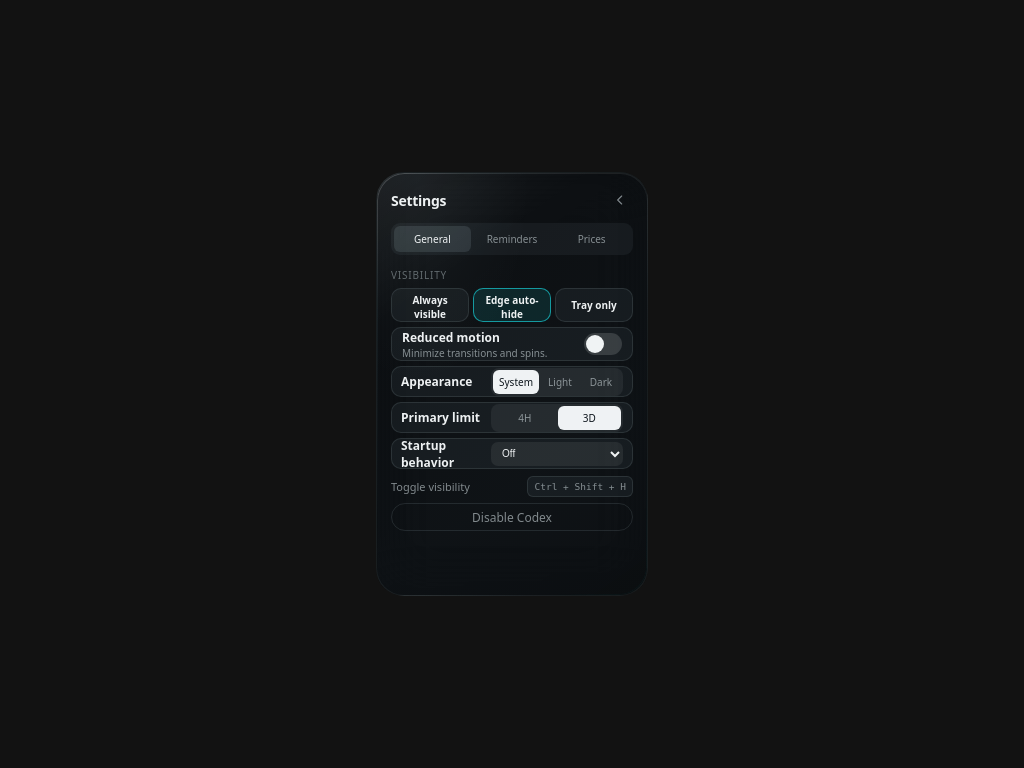
Test: SettingsSheet › keeps price-sync feedback when switching settings pages
The width and height of the screenshot is (1024, 768).
What coordinates should you click on to do the following:
click the button "Prices"
I would click on:
 (592, 239)
Its box is [553,226,630,252].
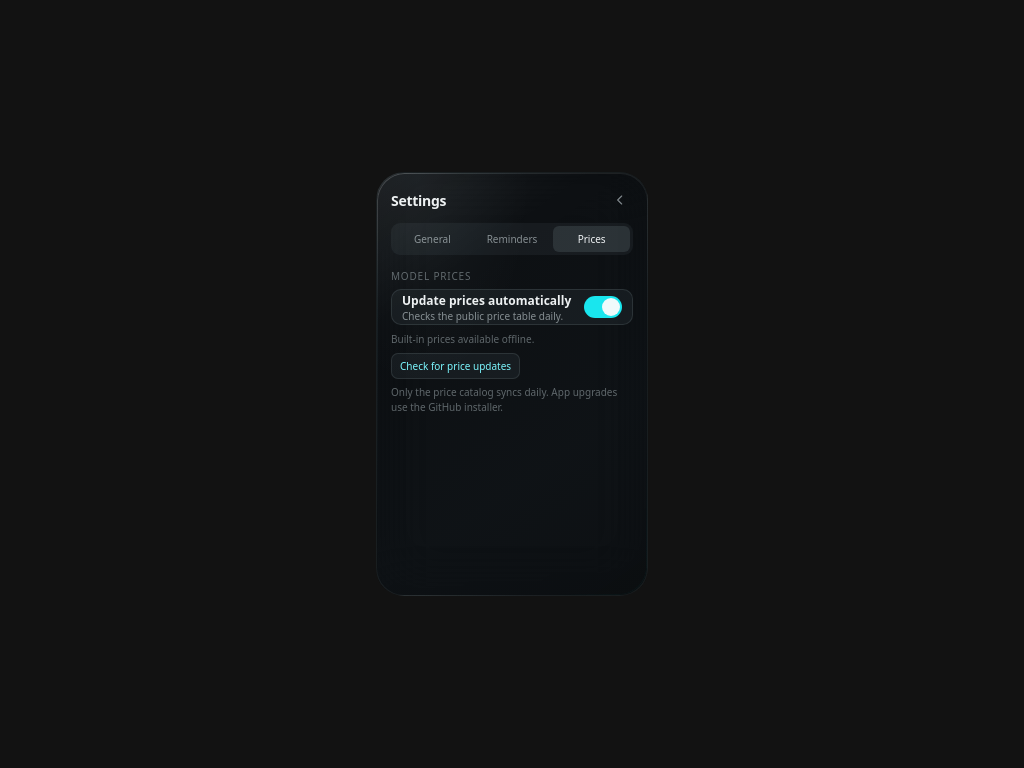
What coordinates should you click on to do the following:
click the button "Check for price updates"
I would click on:
 (456, 366)
Its box is [391,353,520,379].
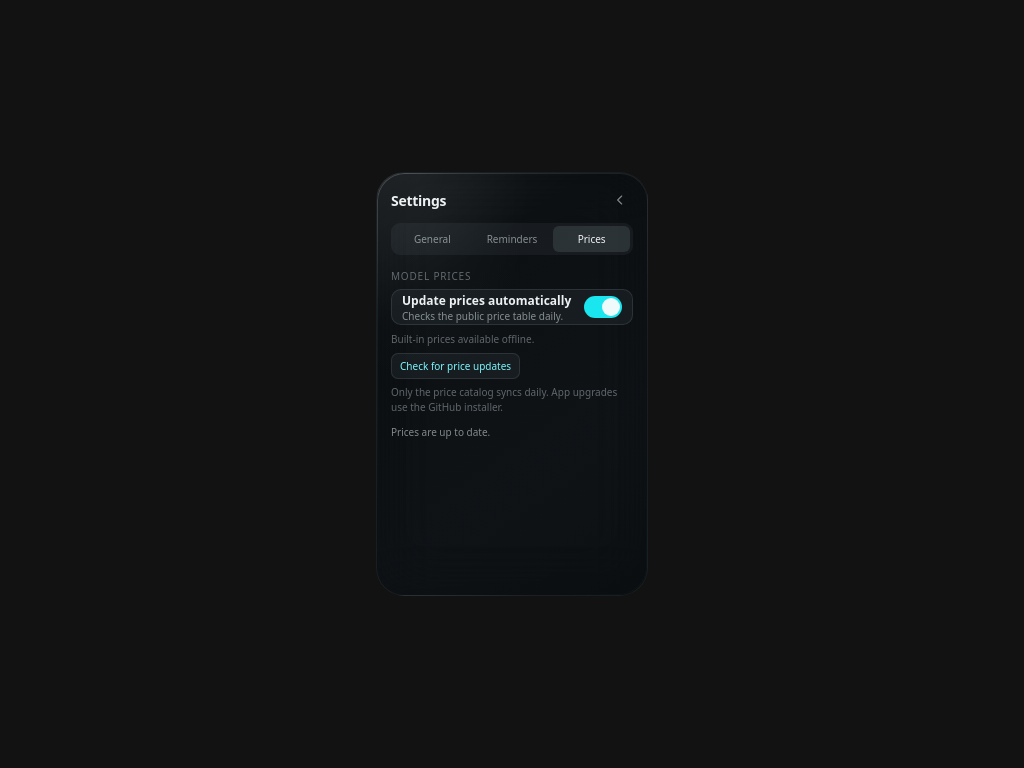
Now the message reads "Prices are up to date.", box [391,425,490,439]
What coordinates should you click on to do the following:
click the button "General"
I would click on:
 (432, 239)
Its box is [394,226,471,252].
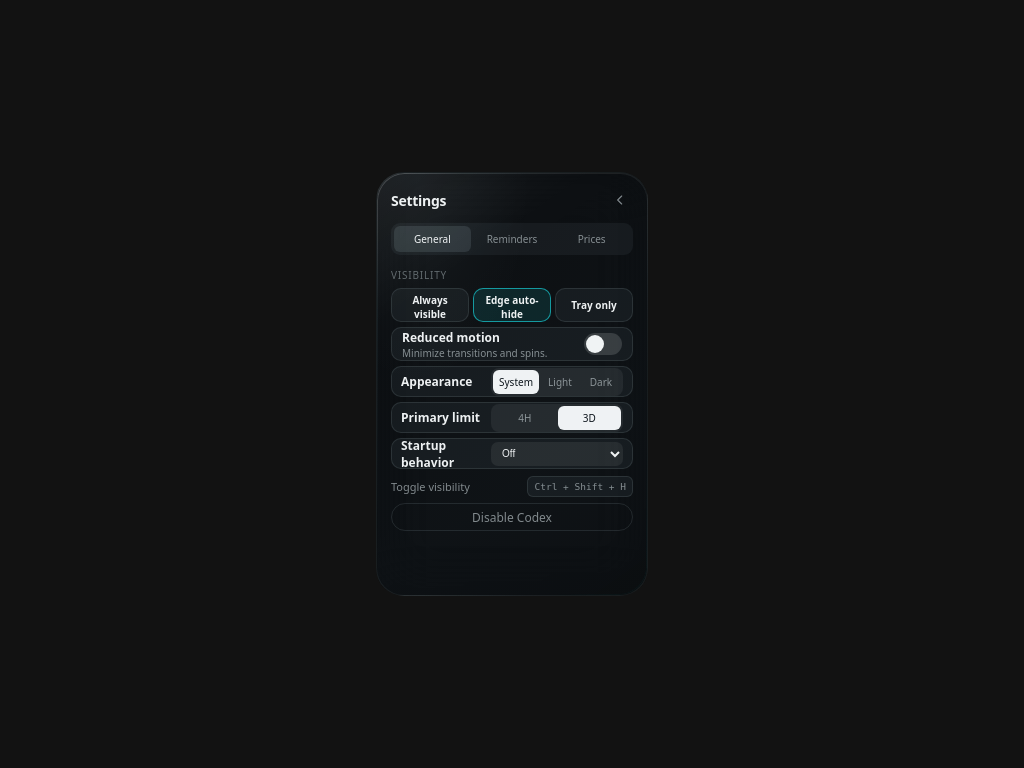
Now the message "Prices are up to date." is gone
What coordinates should you click on to do the following:
click the button "Prices"
I would click on:
 (592, 239)
Its box is [553,226,630,252].
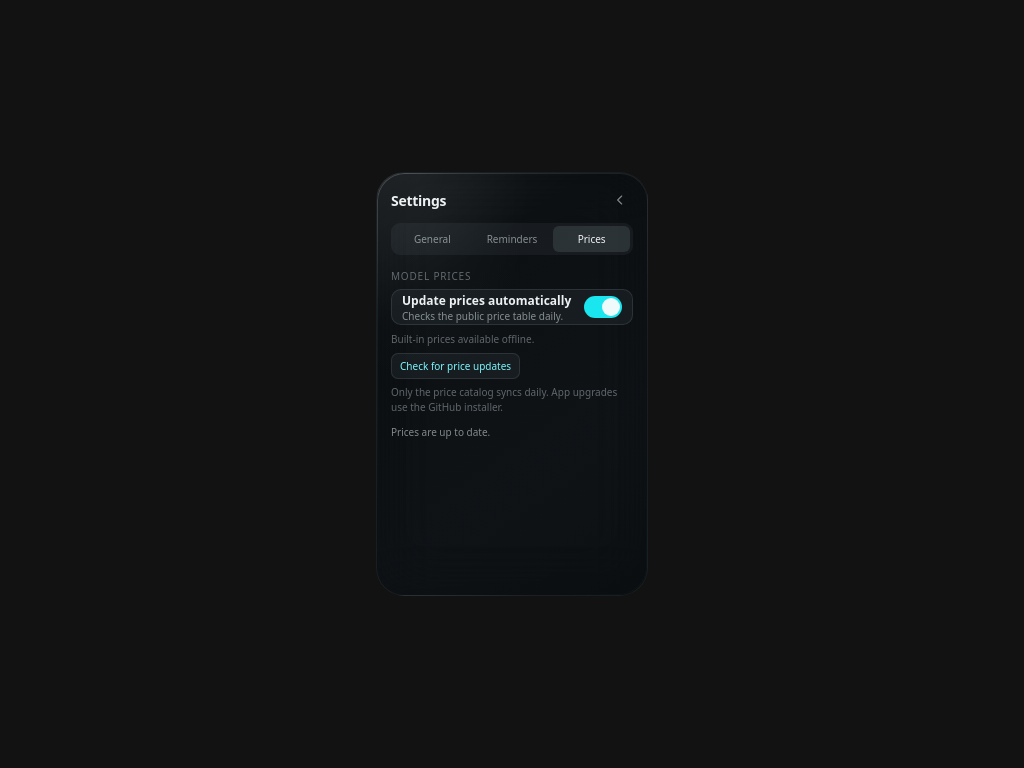
Now the message reads "Prices are up to date.", box [391,425,490,439]
